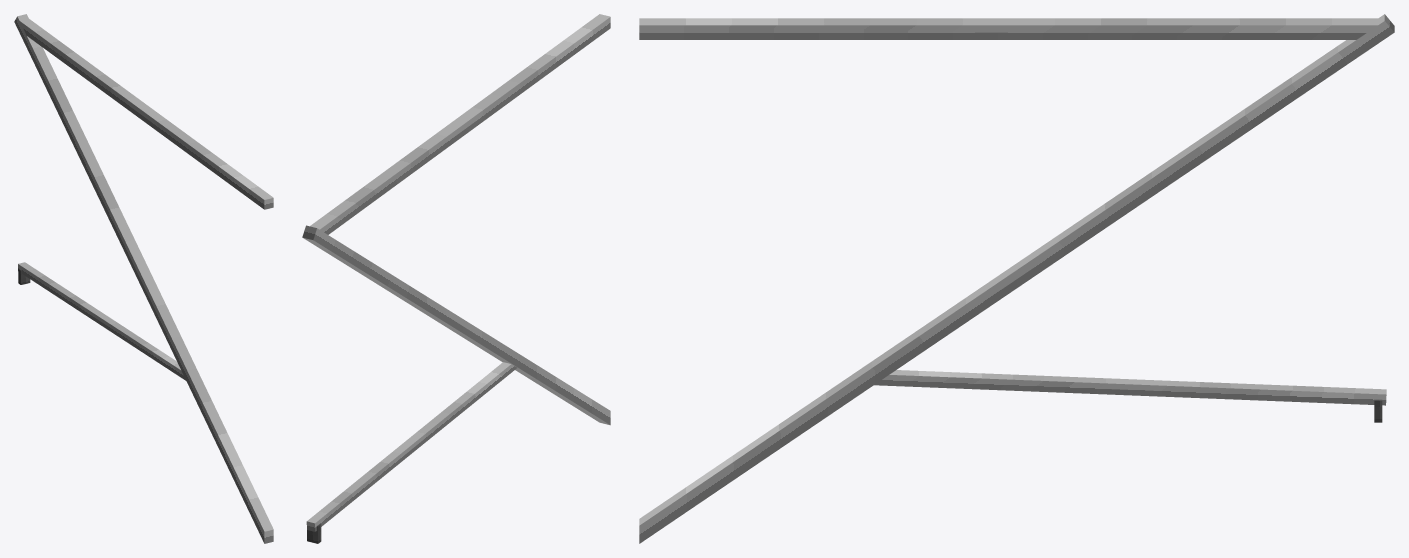
File: cantilever_center_5px.obj
The picture shows the model from 3 angles, left to right: view 1: azimuth 30°, elevation 25°; view 2: azimuth 150°, elevation 25°; view 3: azimuth 270°, elevation 25°; orthographic projection. The views are drawn at different scales.
Visible parts, largest first — view 1: c3f1ab9a-01cb-4d9f-bb15-50ec74844ae0, 753604e6-50ee-462b-982c-c00b3b350d73, 6df58e9e-0dd8-4157-9889-c5f991c1b366; view 2: 753604e6-50ee-462b-982c-c00b3b350d73, c3f1ab9a-01cb-4d9f-bb15-50ec74844ae0, 6df58e9e-0dd8-4157-9889-c5f991c1b366; view 3: c3f1ab9a-01cb-4d9f-bb15-50ec74844ae0, 753604e6-50ee-462b-982c-c00b3b350d73, 6df58e9e-0dd8-4157-9889-c5f991c1b366.
Boxes of the visible parts, x1,y1,x2,y2 form: c3f1ab9a-01cb-4d9f-bb15-50ec74844ae0: [14, 14, 273, 543]; 753604e6-50ee-462b-982c-c00b3b350d73: [20, 18, 273, 209]; 6df58e9e-0dd8-4157-9889-c5f991c1b366: [18, 262, 185, 380]; 753604e6-50ee-462b-982c-c00b3b350d73: [310, 14, 610, 234]; c3f1ab9a-01cb-4d9f-bb15-50ec74844ae0: [302, 225, 610, 425]; 6df58e9e-0dd8-4157-9889-c5f991c1b366: [306, 362, 516, 531]; c3f1ab9a-01cb-4d9f-bb15-50ec74844ae0: [639, 14, 1394, 543]; 753604e6-50ee-462b-982c-c00b3b350d73: [639, 18, 1378, 39]; 6df58e9e-0dd8-4157-9889-c5f991c1b366: [874, 370, 1386, 405].
Size of the model in its own units: 0.0625 by 2.22 by 2.91.
